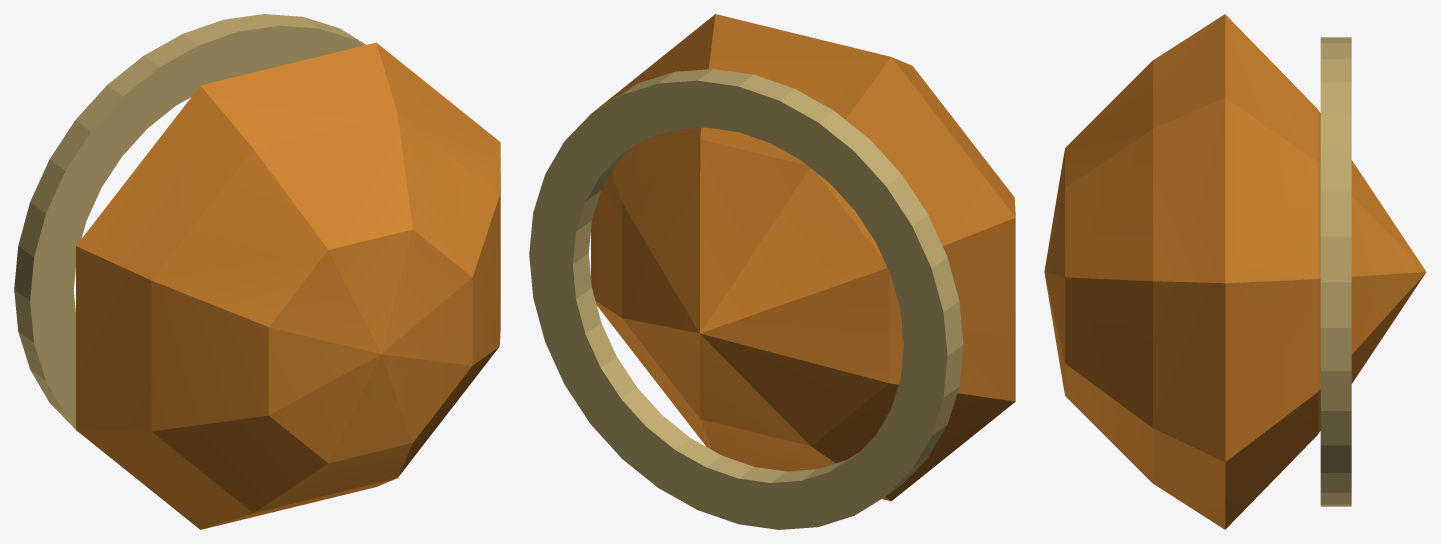
The model's file is tas_kritik.glb.
The picture shows the model from 3 angles, left to right: view 1: azimuth 30°, elevation 25°; view 2: azimuth 150°, elevation 25°; view 3: azimuth 270°, elevation 25°; orthographic projection. The views are drawn at different scales.
Parts seen in each view (by area): view 1: Faceted_Gem, Gold_Collar; view 2: Faceted_Gem, Gold_Collar; view 3: Faceted_Gem, Gold_Collar.
Part boxes in pixels (x1,y1,x2,y2): Faceted_Gem: (76,42,500,529); Gold_Collar: (14,14,366,429); Faceted_Gem: (591,14,1015,501); Gold_Collar: (529,69,963,529); Faceted_Gem: (1044,14,1426,529); Gold_Collar: (1320,37,1351,506).
Size of the model in its own units: 1.85 by 1.85 by 1.48.
